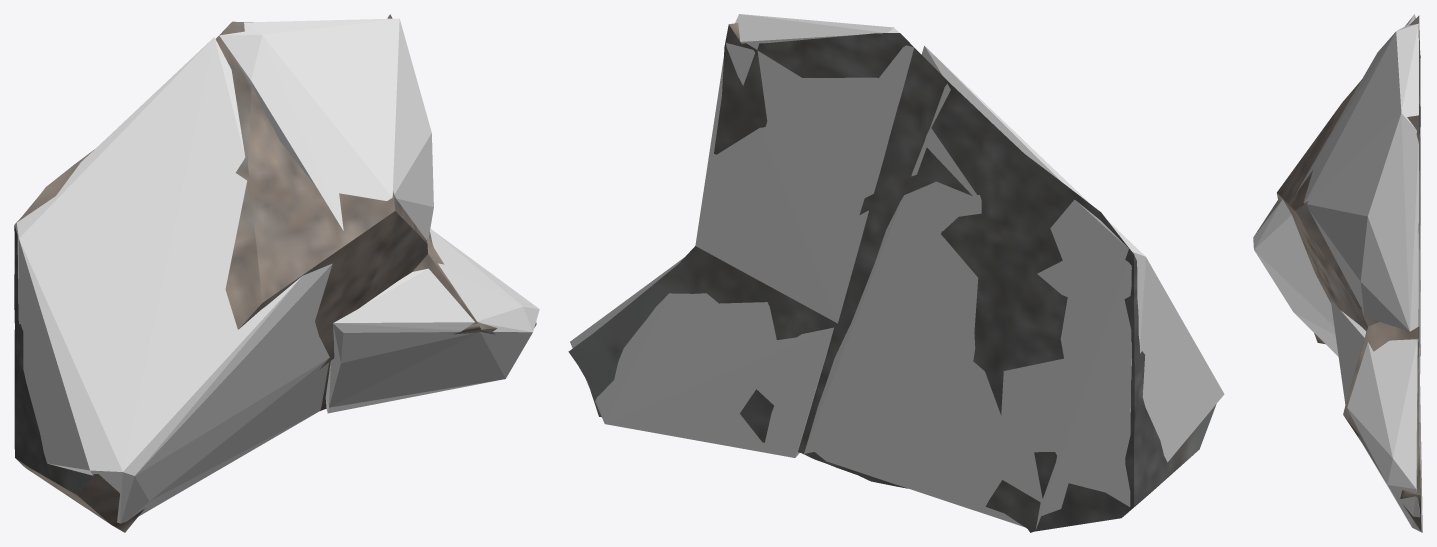
The model's file is SM_Rock_35.fbx.
3 views of the same model, side by side, from view 1: azimuth 30°, elevation 25°; view 2: azimuth 150°, elevation 25°; view 3: azimuth 270°, elevation 25° (orthographic). The views are drawn at different scales.
Visible parts, largest first — view 1: SM_Rock_35_ConvexHulls, SM_Rock_35_LOD0; view 2: SM_Rock_35_ConvexHulls, SM_Rock_35_LOD0; view 3: SM_Rock_35_ConvexHulls, SM_Rock_35_LOD0.
Boxes of the visible parts, <box> form: SM_Rock_35_ConvexHulls: <box>16,18,539,523</box>; SM_Rock_35_LOD0: <box>14,14,536,532</box>; SM_Rock_35_ConvexHulls: <box>570,14,1224,529</box>; SM_Rock_35_LOD0: <box>568,23,1216,532</box>; SM_Rock_35_ConvexHulls: <box>1253,14,1422,532</box>; SM_Rock_35_LOD0: <box>1277,15,1420,530</box>.
Bounding box in the file's own units: 40.88 × 12.28 × 32.01.
